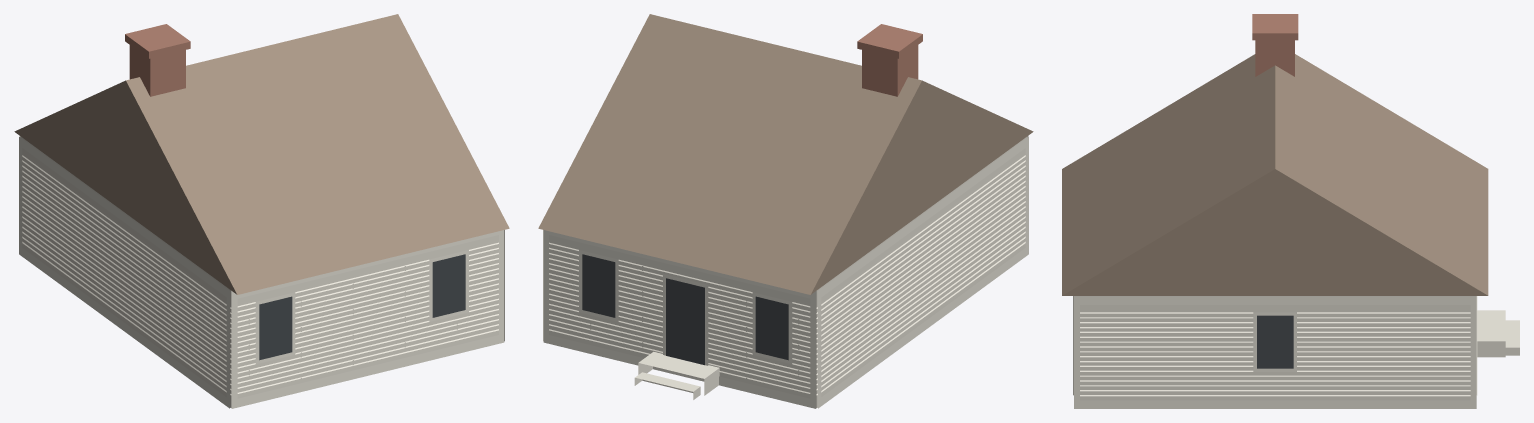
Rendered from recon_1835_blk_randolph_wells_d4_04__inferred_1835.glb.
3 views of the same model, side by side, from view 1: azimuth 30°, elevation 25°; view 2: azimuth 150°, elevation 25°; view 3: azimuth 270°, elevation 25° (orthographic). The views are drawn at different scales.
Parts seen in each view (by area): view 1: recon_1835_blk_randolph_wells_d4_04__inferred_1835; view 2: recon_1835_blk_randolph_wells_d4_04__inferred_1835; view 3: recon_1835_blk_randolph_wells_d4_04__inferred_1835.
Boxes of the visible parts, <box> form: recon_1835_blk_randolph_wells_d4_04__inferred_1835: <box>14,14,509,408</box>; recon_1835_blk_randolph_wells_d4_04__inferred_1835: <box>538,14,1033,408</box>; recon_1835_blk_randolph_wells_d4_04__inferred_1835: <box>1062,14,1519,408</box>.
Bounding box in the file's own units: 6.47 × 6.4 × 9.73.
